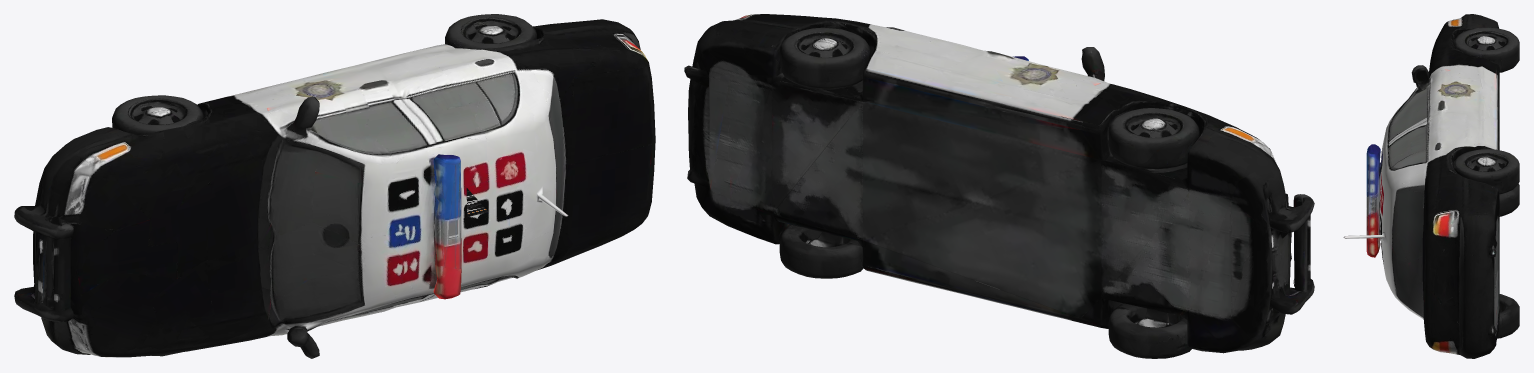
The model's file is police.obj.
3 views of the same model, side by side, from view 1: azimuth 30°, elevation 25°; view 2: azimuth 150°, elevation 25°; view 3: azimuth 270°, elevation 25° (orthographic). The views are drawn at different scales.
Bounding box in the file's own units: 4.7 × 1.88 × 1.55.
1 material, 1 textured.
